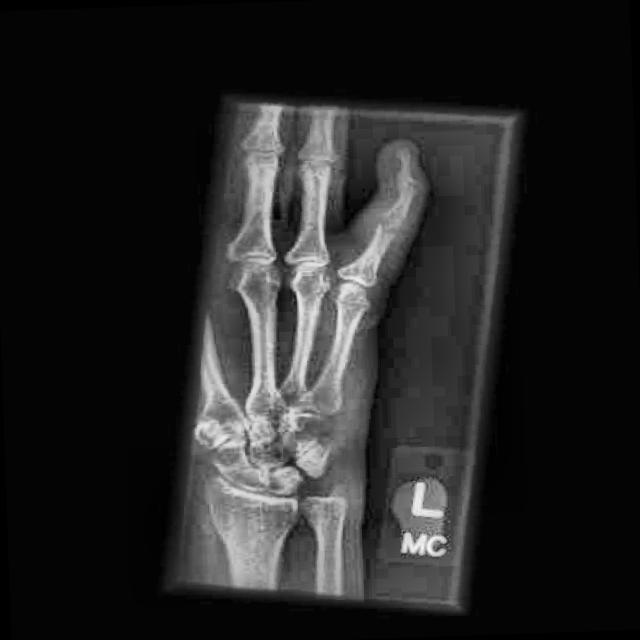fingers positive: (358, 163, 428, 265)
